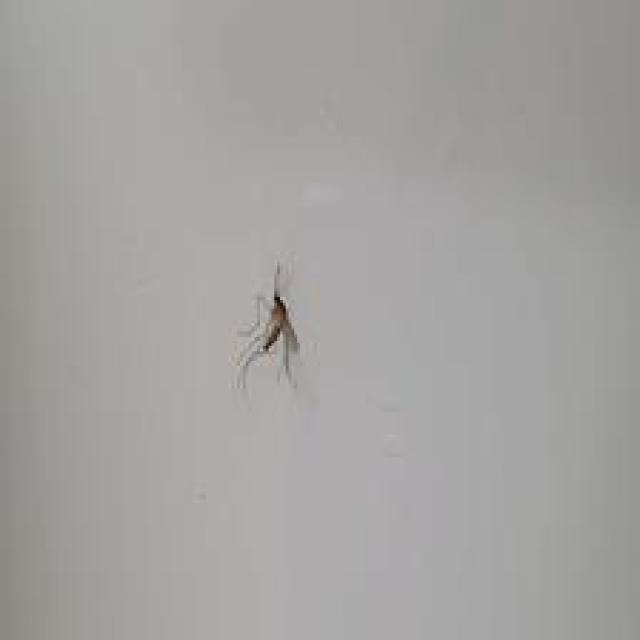Culex: (233, 260, 301, 391)
